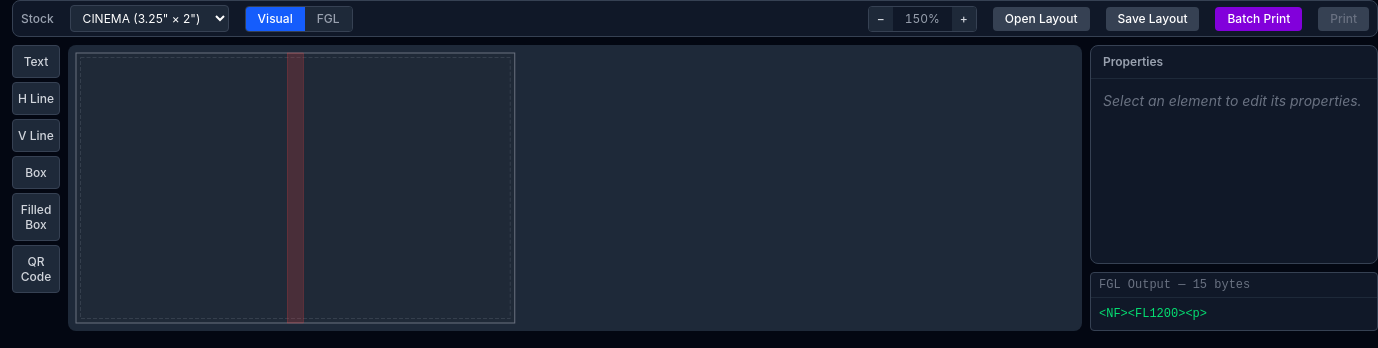
TicketEditor › clicking "FGL" shows FglEditorPanel, hides palette
Click the button "FGL".
click(328, 18)  # box [305,6,352,30]
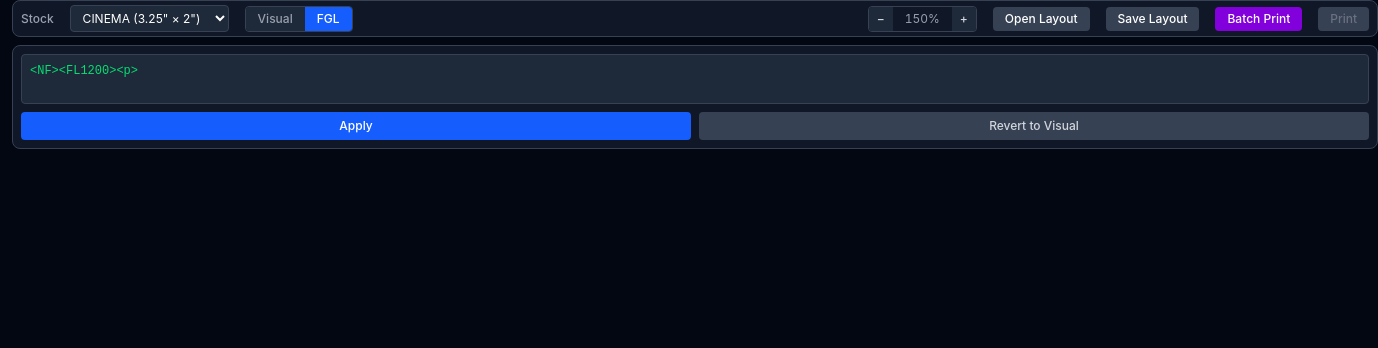
Expected: the text box is shown, [21,54,1369,104]
Expected: the button "Text" is gone
